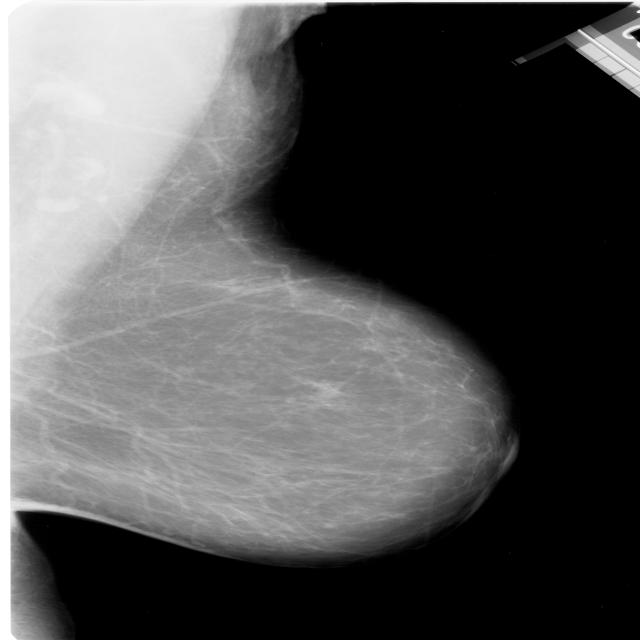normal: (0, 113, 525, 568)
